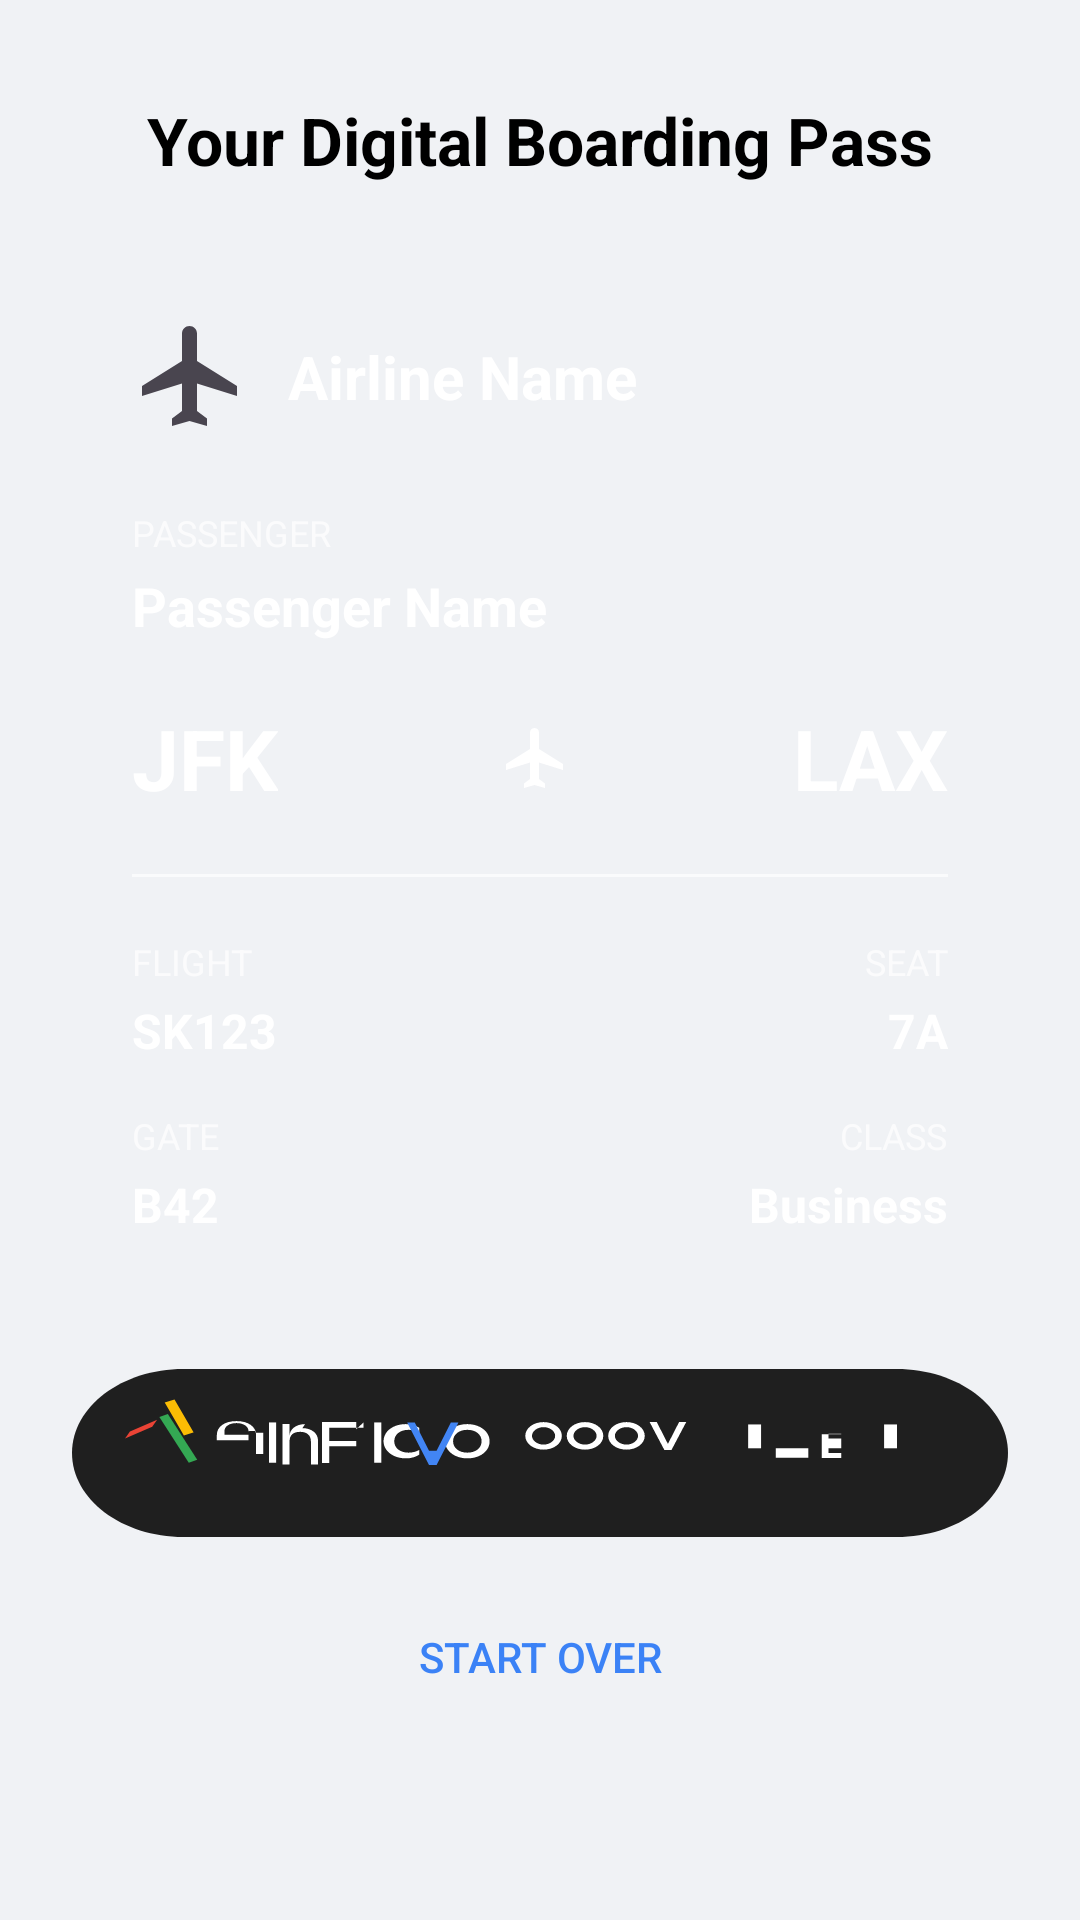

Screen size 1080px×1920px. Icon name, then its box in pixels as box(x1, y1, x2, y2):
airplane: box(142, 326, 237, 426)
